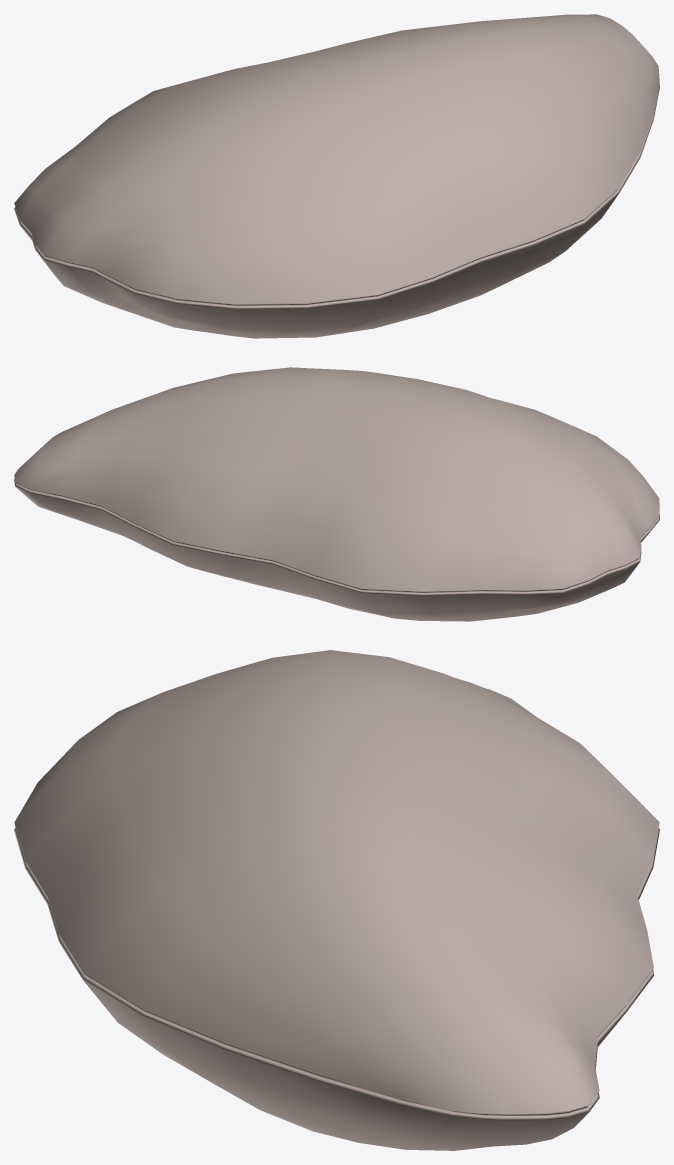
File: Oysters_Closed.fbx
3 renders of one model, top to bottom at view 1: azimuth 30°, elevation 25°; view 2: azimuth 150°, elevation 25°; view 3: azimuth 270°, elevation 25°, orthographic. The views are drawn at different scales.
Parts seen in each view (by area): view 1: Oysters_Closed; view 2: Oysters_Closed; view 3: Oysters_Closed.
Part boxes in pixels (left/top/right/bottom): Oysters_Closed: left=14, top=14, right=659, bottom=338; Oysters_Closed: left=14, top=367, right=659, bottom=621; Oysters_Closed: left=14, top=650, right=659, bottom=1150.
Size of the model in its own units: 8.48 by 2.93 by 5.43.
